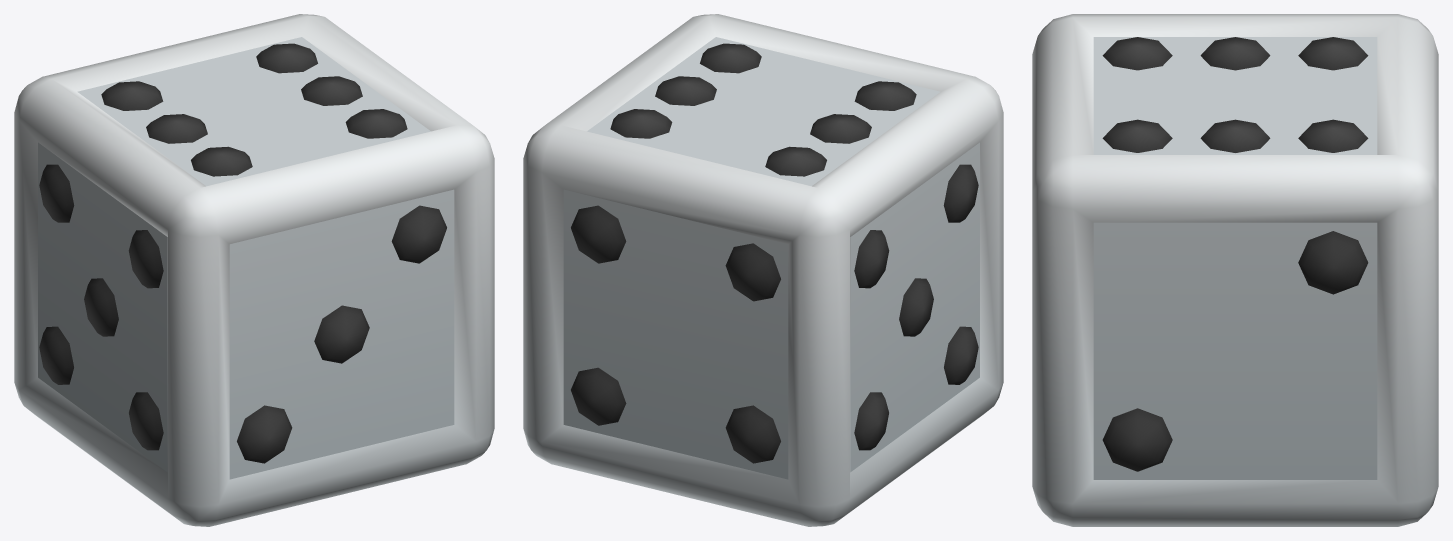
3 renders of one model, left to right at view 1: azimuth 30°, elevation 25°; view 2: azimuth 150°, elevation 25°; view 3: azimuth 270°, elevation 25°, orthographic. The views are drawn at different scales.
Visible parts, largest first — view 1: D6_B; view 2: D6_B; view 3: D6_B.
Boxes of the visible parts, x1,y1,x2,y2 form: D6_B: (14, 14, 494, 526); D6_B: (523, 14, 1003, 526); D6_B: (1032, 14, 1438, 526).
Size of the model in its own units: 0.75 by 0.75 by 0.75.
